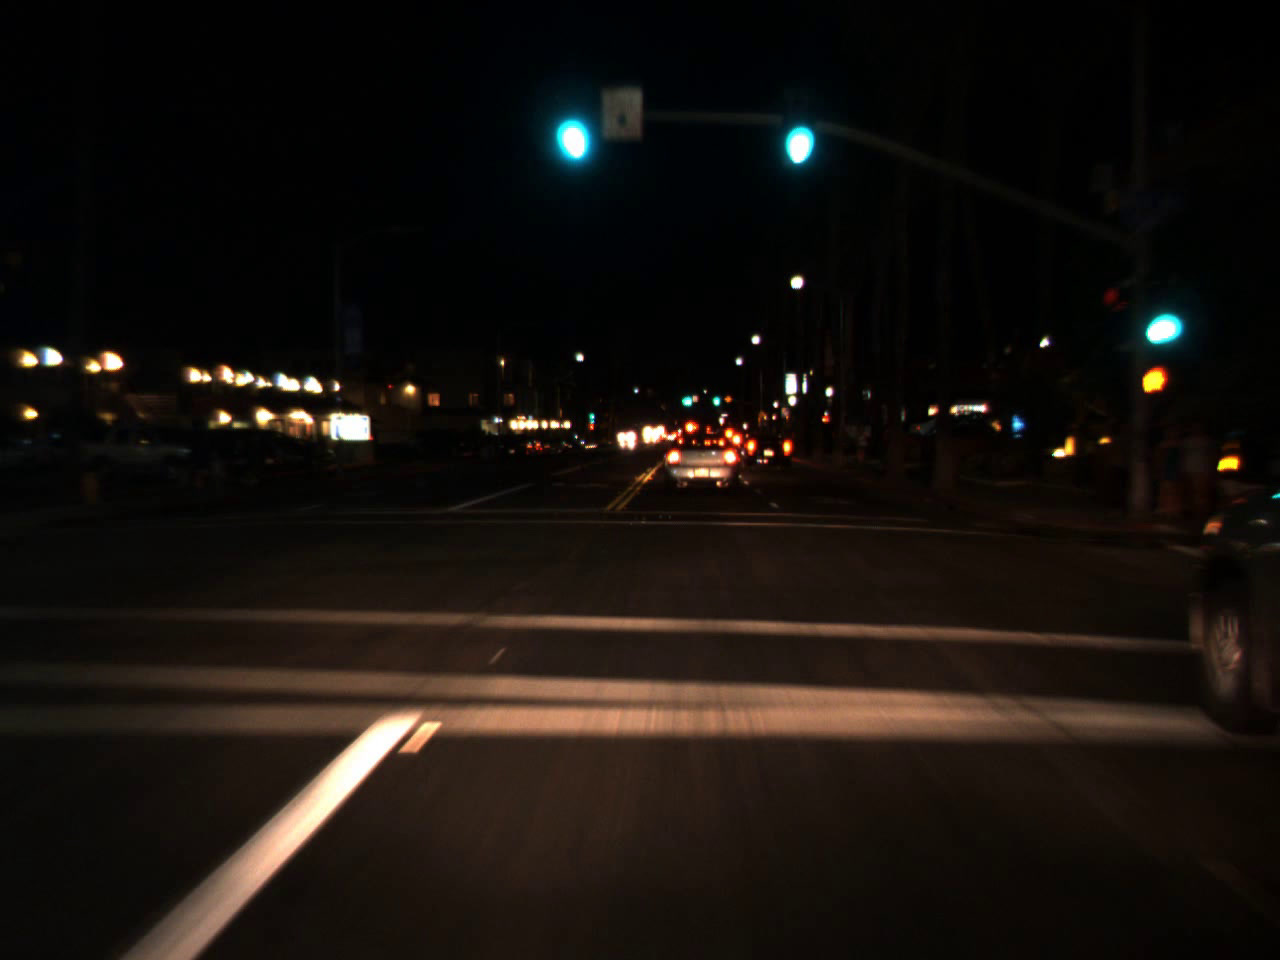go: (1131, 278, 1183, 356), (551, 82, 594, 169), (775, 90, 818, 174), (677, 387, 693, 408), (711, 390, 721, 405), (588, 406, 595, 421)
